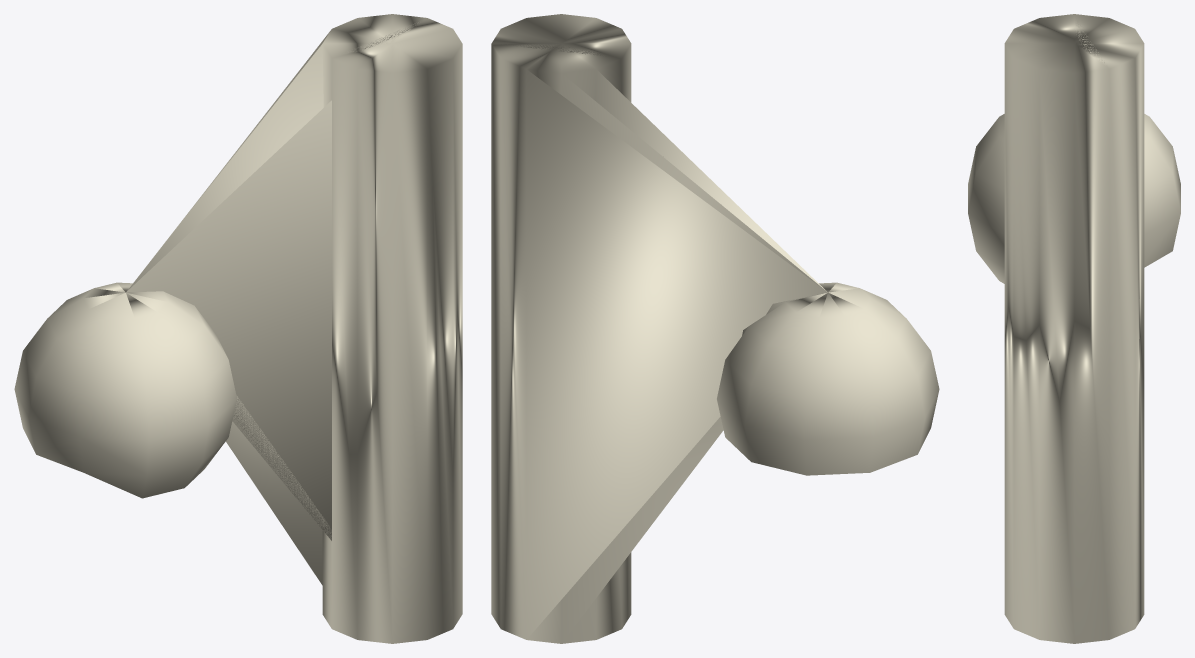
Rendered from bone.obj.
The picture shows the model from 3 angles, left to right: view 1: azimuth 30°, elevation 25°; view 2: azimuth 150°, elevation 25°; view 3: azimuth 270°, elevation 25°; orthographic projection.
Bounding box in the file's own units: 2.8 × 3.6 × 1.22.
